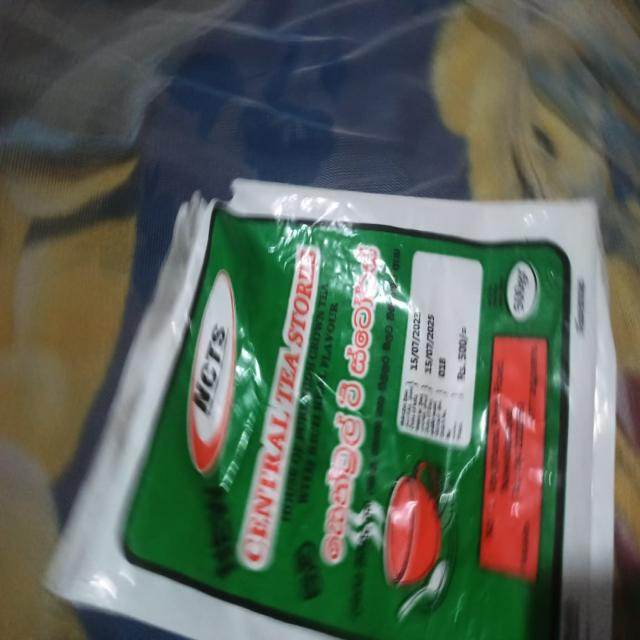Central Tea: (110, 186, 626, 640)
